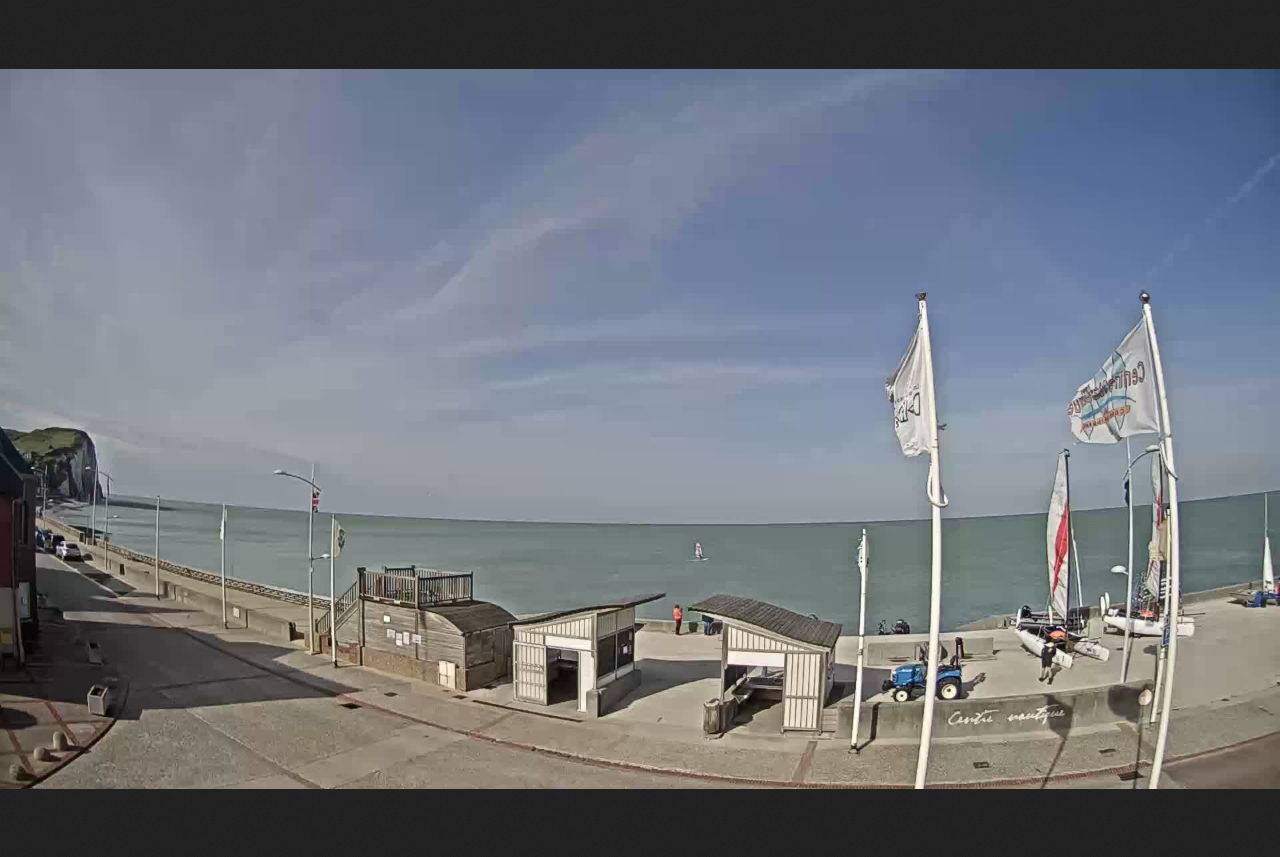maybe: (1070, 327, 1167, 447), (879, 314, 941, 458), (333, 519, 351, 560)
no: (1146, 513, 1170, 560), (853, 537, 869, 577), (219, 505, 231, 544)
